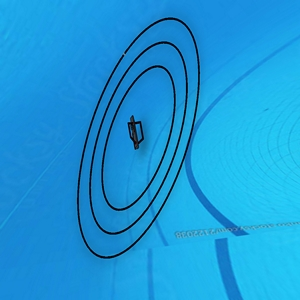circle: (67, 13, 217, 264)
submarine: (126, 117, 147, 149)
